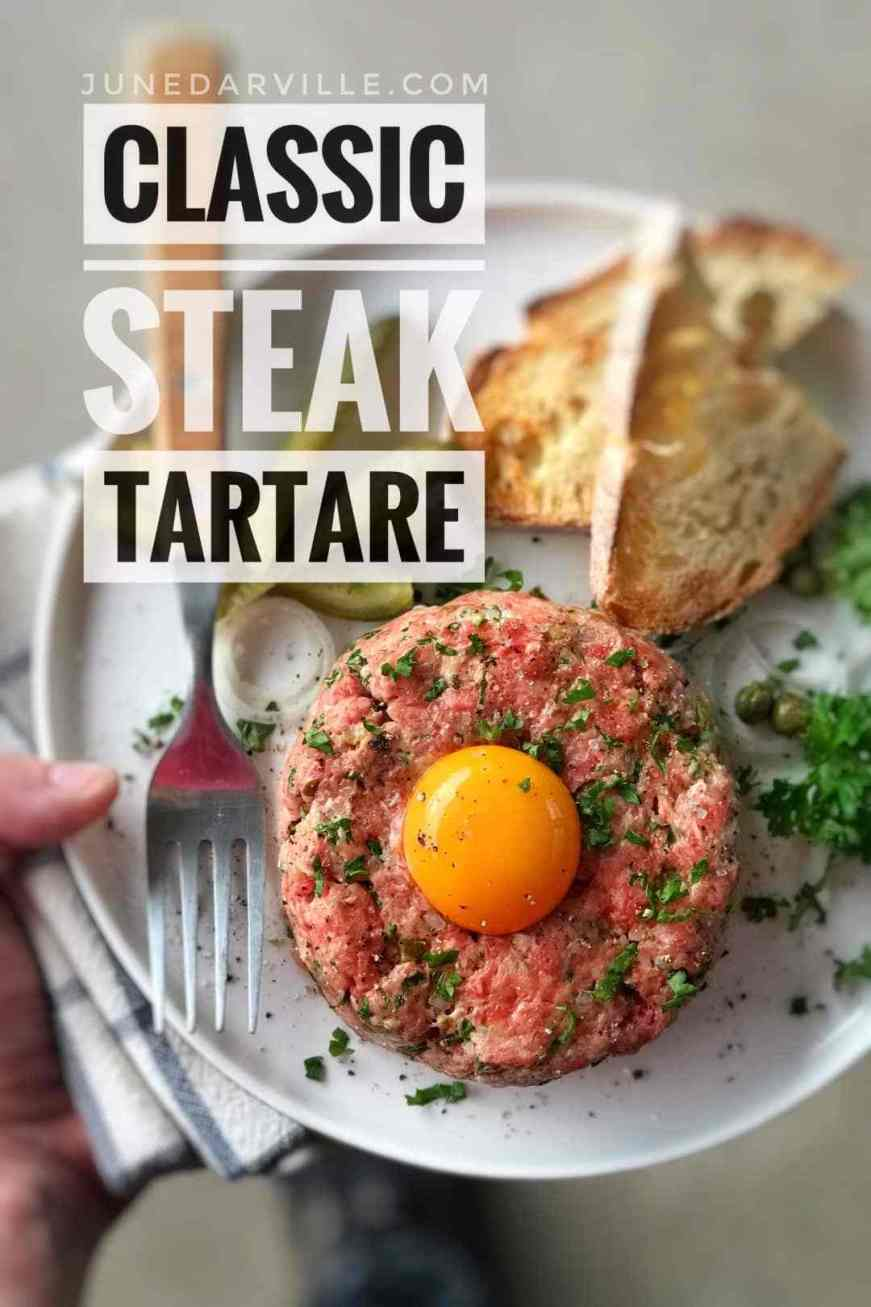ground_beef: (238, 894, 757, 1085), (306, 579, 606, 733), (284, 755, 390, 925)
